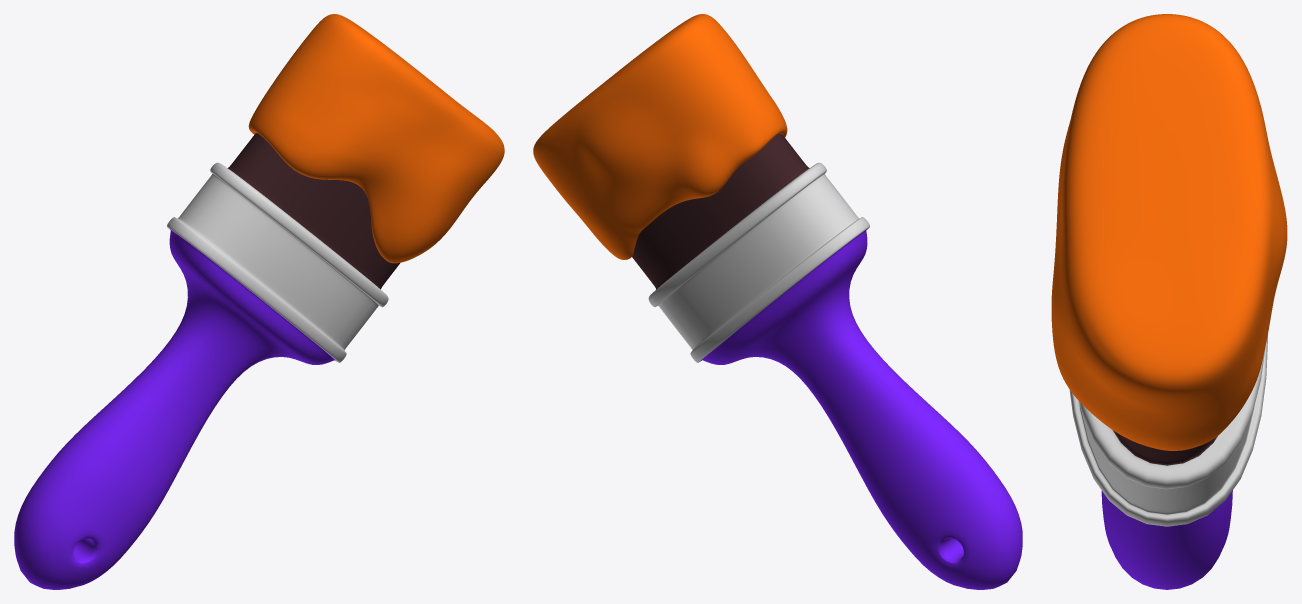
Rendered from brush.glb.
3 views of the same model, side by side, from view 1: azimuth 30°, elevation 25°; view 2: azimuth 150°, elevation 25°; view 3: azimuth 270°, elevation 25° (orthographic). The views are drawn at different scales.
Parts seen in each view (by area): view 1: Cube.039; view 2: Cube.039; view 3: Cube.039.
Boxes of the visible parts, box(x1,y1,x2,y2) form: Cube.039: box(14, 14, 504, 589); Cube.039: box(533, 14, 1022, 589); Cube.039: box(1051, 14, 1287, 589).
Bounding box in the file's own units: 1.85 × 1.85 × 0.515.
